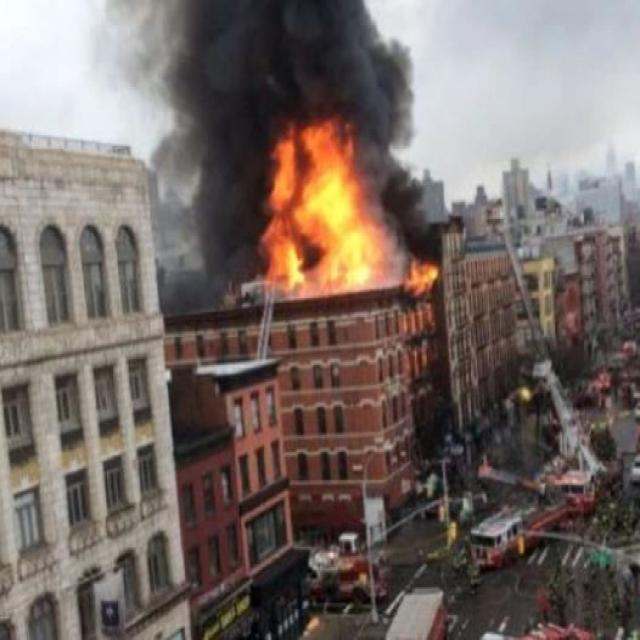Fire: (266, 139, 407, 289)
Smoke: (161, 17, 446, 285)
